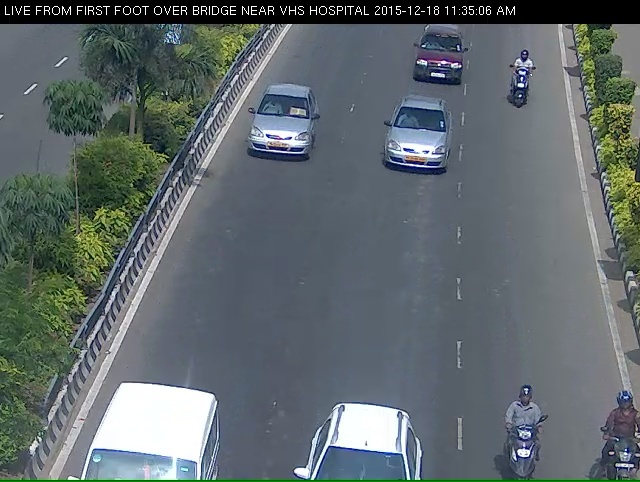Car: (364, 99, 463, 208), (288, 428, 433, 481), (244, 87, 322, 178), (409, 25, 474, 95)
Person: (499, 396, 557, 479), (500, 57, 535, 133)
